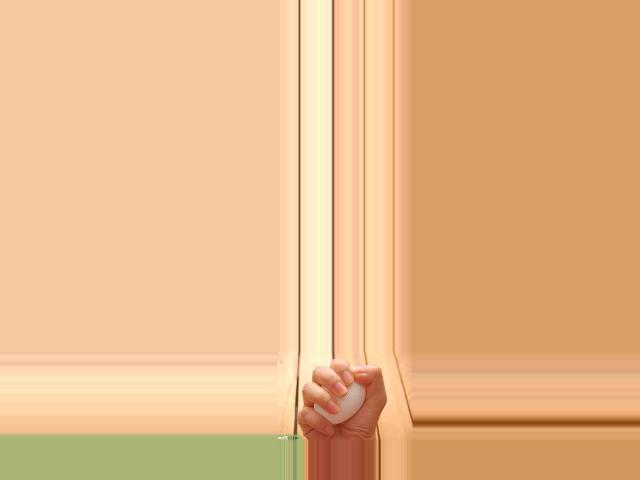egg: (312, 382, 365, 425)
